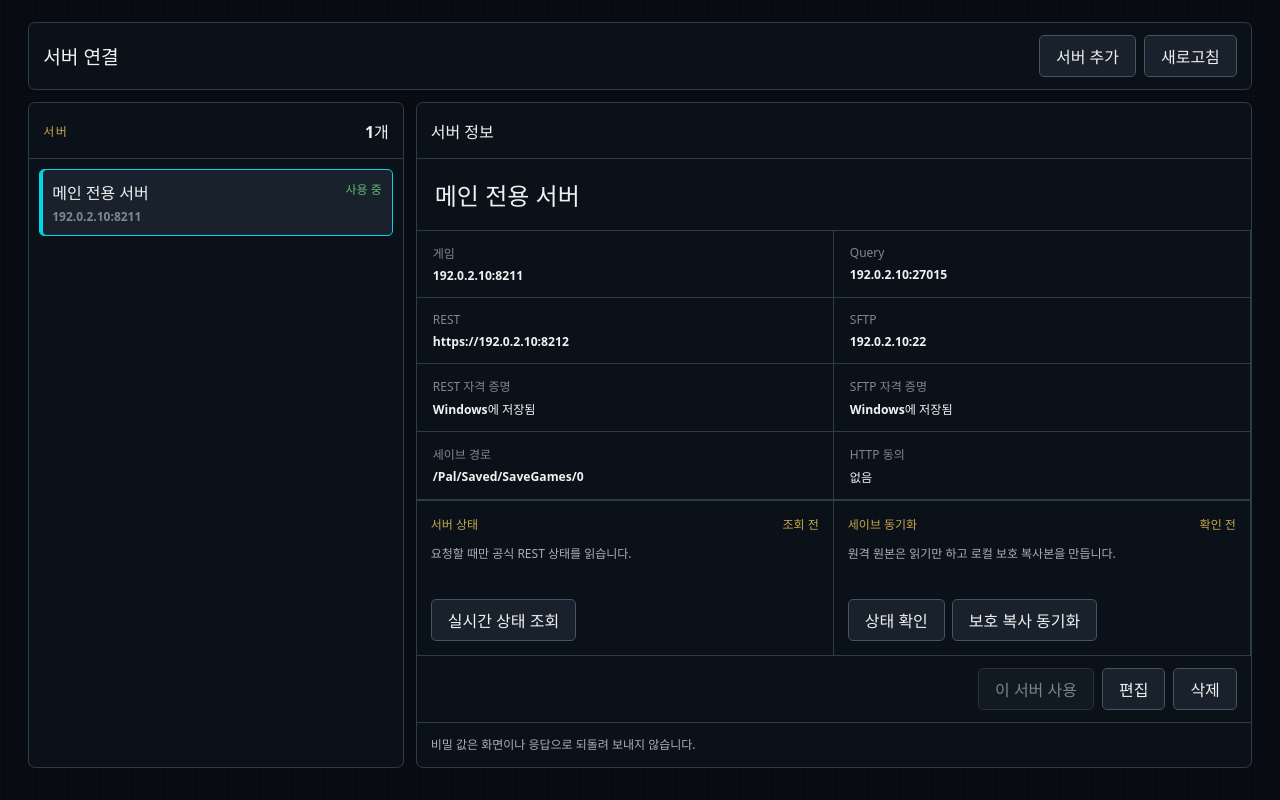
Test: ServerProfilesBoard › requires a second explicit action before deleting a profile
What coordinates should you click on to do the following:
click the button "삭제"
I would click on:
 (1205, 689)
Its box is [1173,668,1237,710].
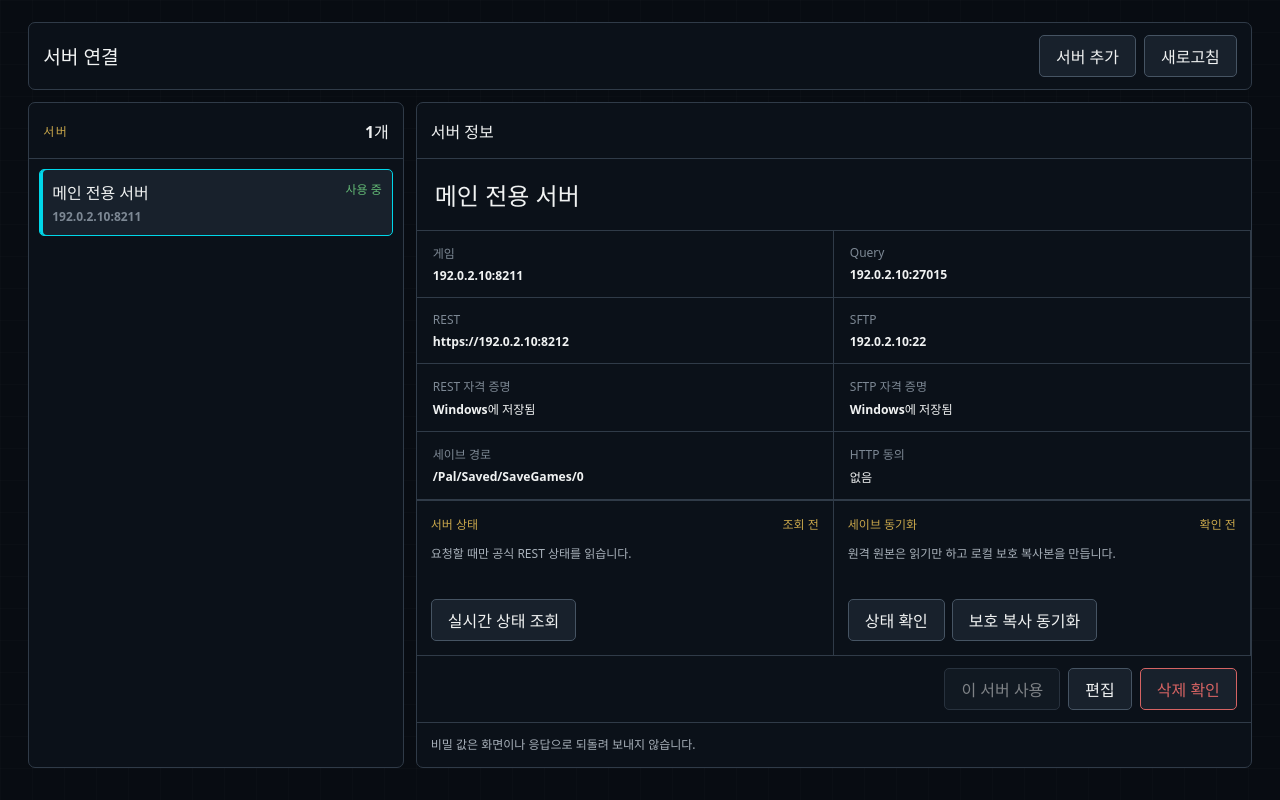
What coordinates should you click on to do the following:
click the button "삭제 확인"
I would click on:
 (1188, 689)
Its box is [1140,668,1237,710].
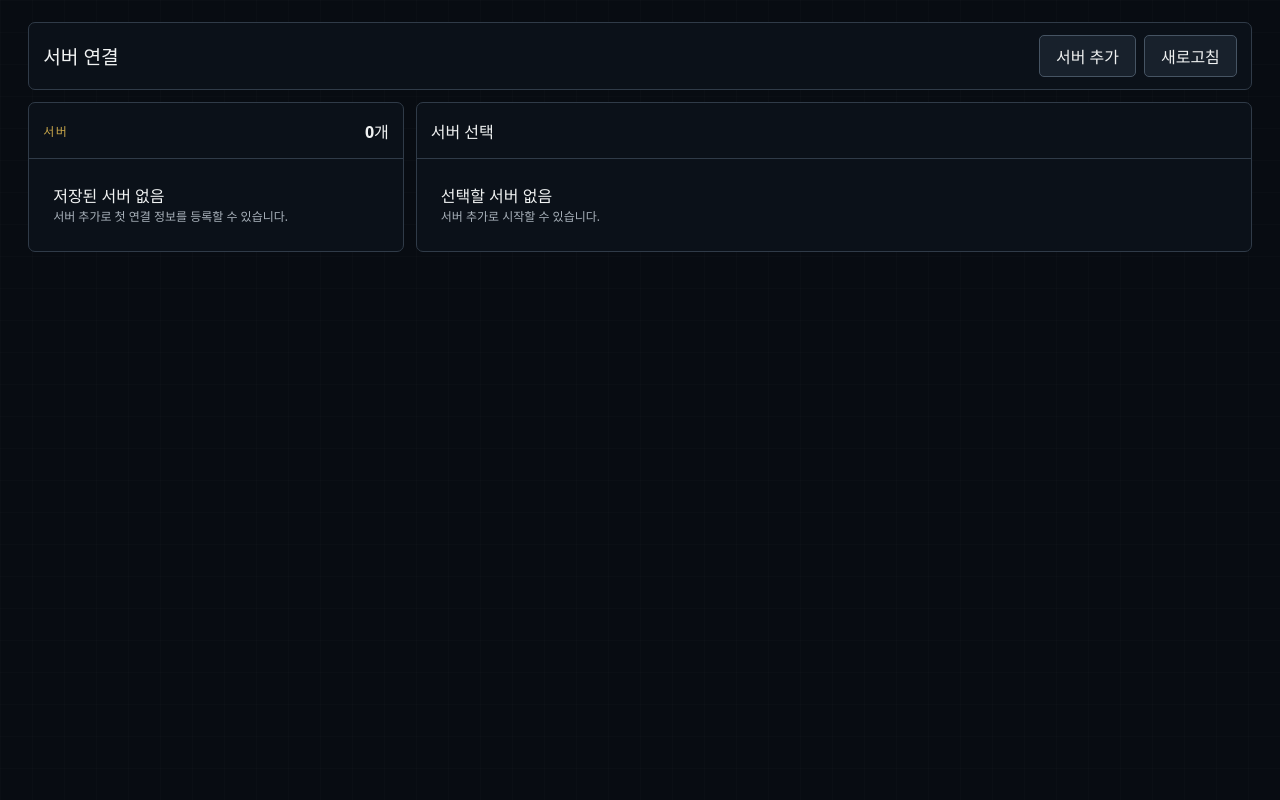
Expected: the text "저장된 서버 없음" is shown, [53,185,165,207]
